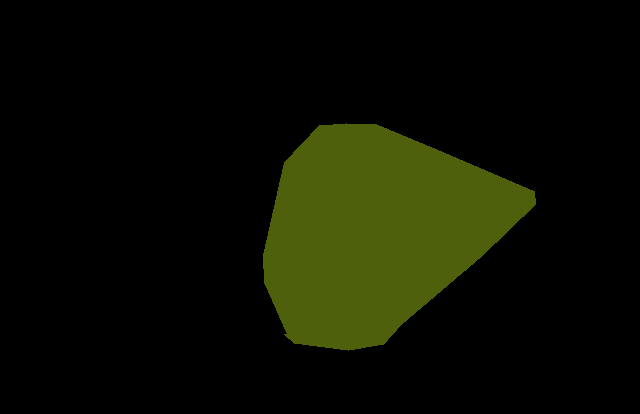Train: (263, 123, 536, 351)
